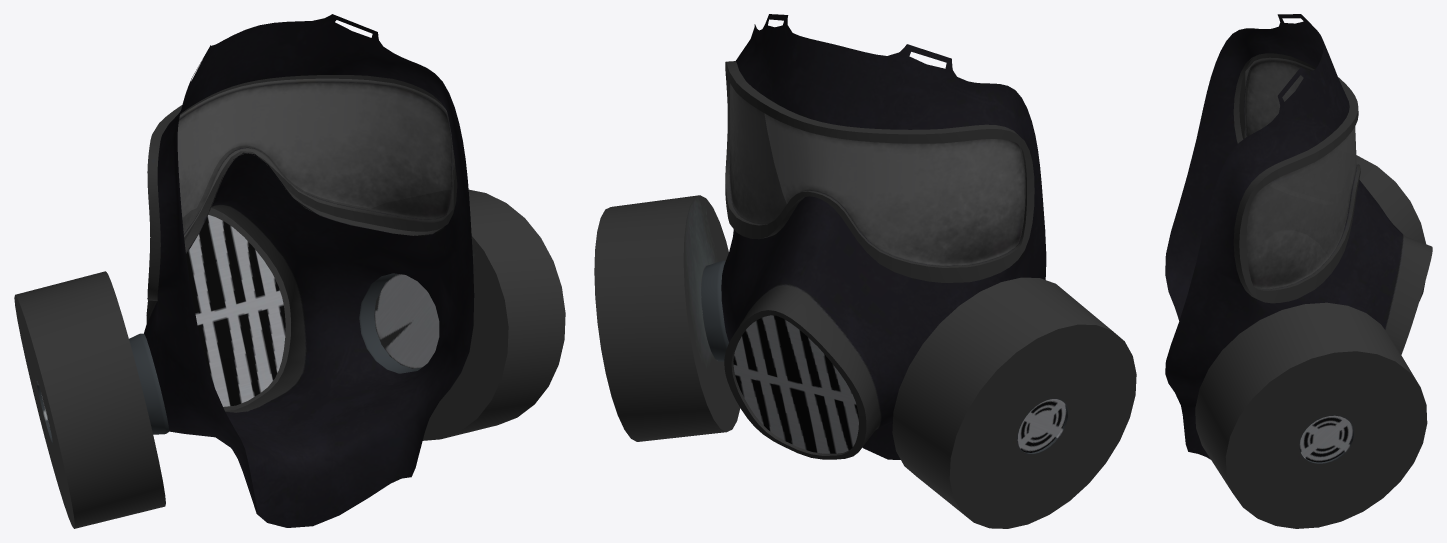
File: gasMask1.gltf
The picture shows the model from 3 angles, left to right: view 1: azimuth 30°, elevation 25°; view 2: azimuth 150°, elevation 25°; view 3: azimuth 270°, elevation 25°; orthographic projection. The views are drawn at different scales.
Visible parts, largest first — view 1: gasMask1; view 2: gasMask1; view 3: gasMask1.
Part boxes in pixels (<box>): gasMask1: <box>14,14,565,528</box>; gasMask1: <box>594,14,1136,528</box>; gasMask1: <box>1165,14,1432,528</box>.
Bounding box in the file's own units: 1.33 × 1.17 × 0.6746.
1 material, 1 textured.
